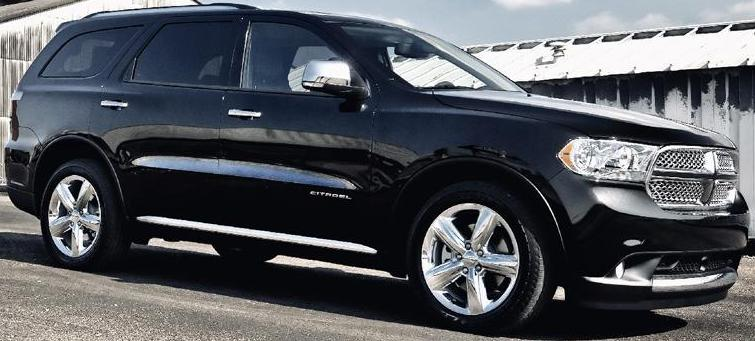front_view: (551, 120, 749, 309)
headlight: (552, 114, 651, 201)
side_glass: (137, 21, 375, 111)
